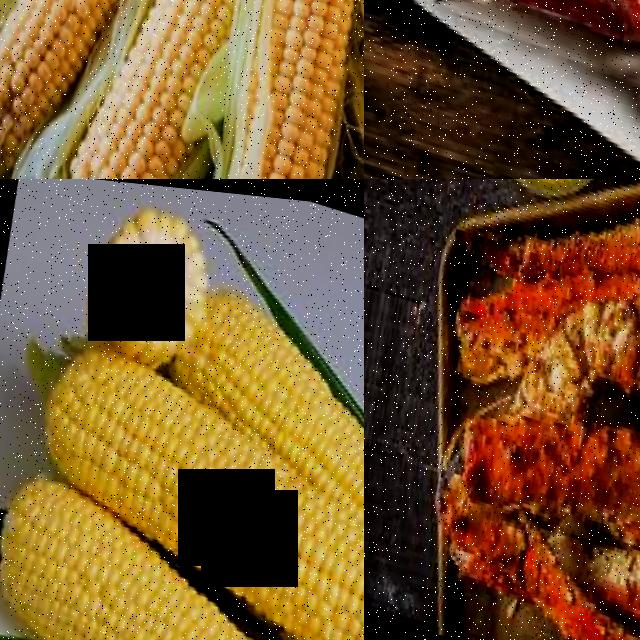corn: (16, 331, 229, 539), (160, 428, 356, 632), (184, 0, 364, 179), (176, 275, 339, 472), (0, 464, 147, 640), (47, 52, 235, 179), (64, 552, 273, 640), (288, 394, 364, 608), (0, 0, 97, 161), (127, 0, 266, 94)
crab: (433, 179, 640, 576), (364, 0, 640, 179), (418, 424, 640, 640)
